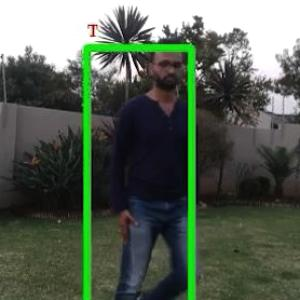follow: (108, 34, 193, 299)
